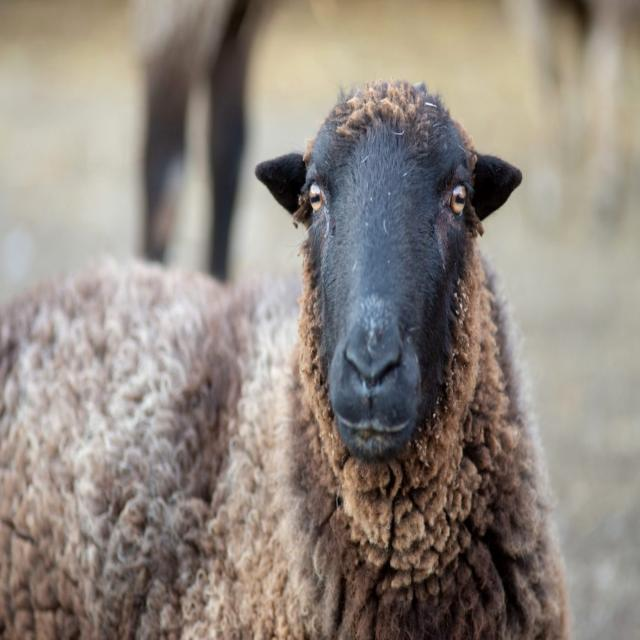sheep: (0, 81, 569, 639)
